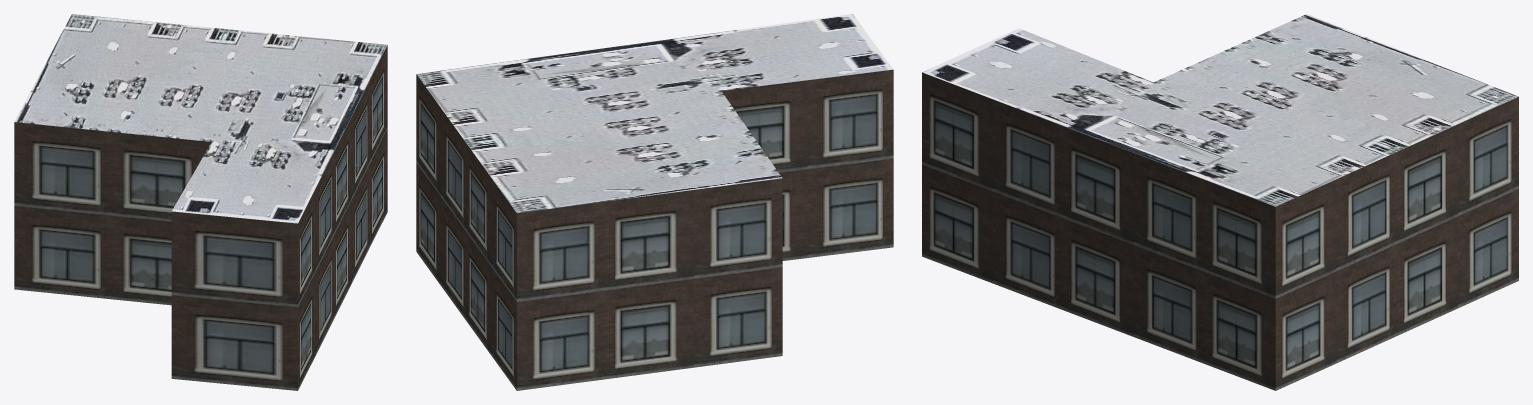
The model's file is ResTex__3190.fbx.
3 views of the same model, side by side, from view 1: azimuth 30°, elevation 25°; view 2: azimuth 150°, elevation 25°; view 3: azimuth 270°, elevation 25° (orthographic). The views are drawn at different scales.
Visible parts, largest first — view 1: CityEngineMaterial_16_m, CityEngineMaterial_15_m; view 2: CityEngineMaterial_16_m, CityEngineMaterial_15_m; view 3: CityEngineMaterial_16_m, CityEngineMaterial_15_m.
Part boxes in pixels (x1,y1,x2,y2): CityEngineMaterial_16_m: (14, 45, 387, 390); CityEngineMaterial_15_m: (14, 14, 387, 223); CityEngineMaterial_16_m: (416, 69, 893, 390); CityEngineMaterial_15_m: (416, 14, 893, 212); CityEngineMaterial_16_m: (922, 72, 1518, 390); CityEngineMaterial_15_m: (922, 14, 1518, 206).
Bounding box in the file's own units: 13.47 × 6 × 17.62.
2 materials, 2 textured.
